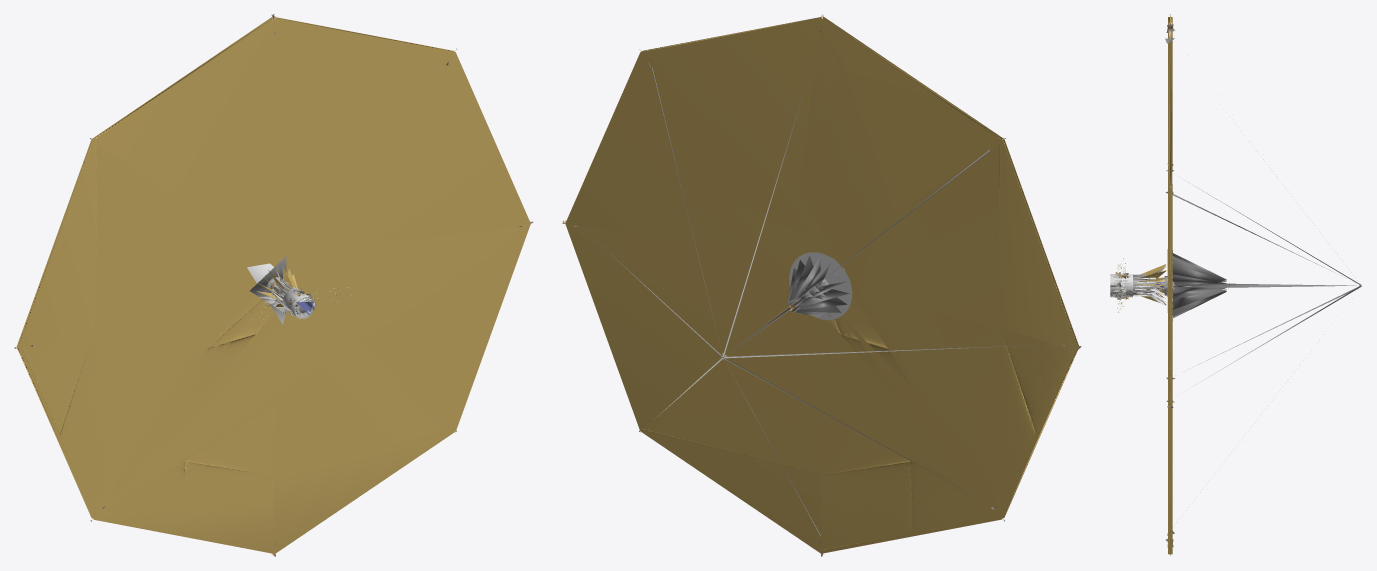
The model's file is dyson_panel.glb.
3 renders of one model, left to right at view 1: azimuth 30°, elevation 25°; view 2: azimuth 150°, elevation 25°; view 3: azimuth 270°, elevation 25°, orthographic. The views are drawn at different scales.
Visible parts, largest first — view 1: n_sail.2; view 2: n_sail.2; view 3: n_sail.2.
Boxes of the visible parts, bbox=[...] form: n_sail.2: bbox=[14, 14, 533, 556]; n_sail.2: bbox=[562, 14, 1081, 556]; n_sail.2: bbox=[1110, 14, 1361, 555].
Bounding box in the file's own units: 1 × 1 × 0.4362.
